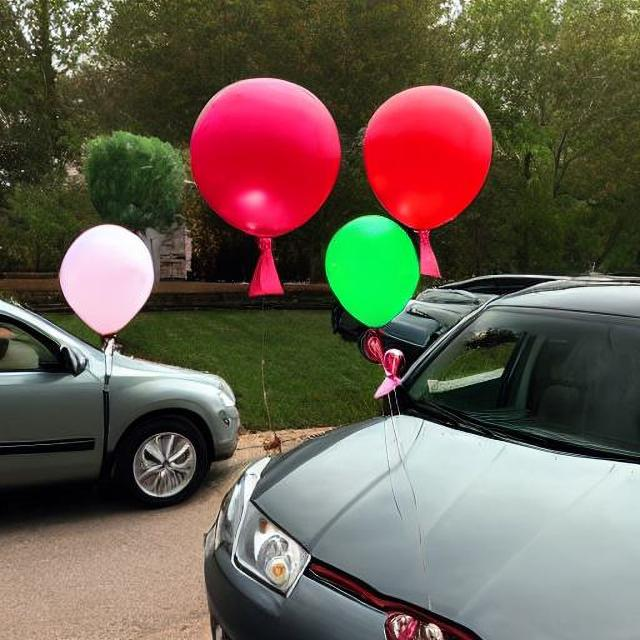balloon: (182, 74, 342, 282), (357, 84, 492, 273), (54, 220, 158, 353), (326, 217, 430, 331)
